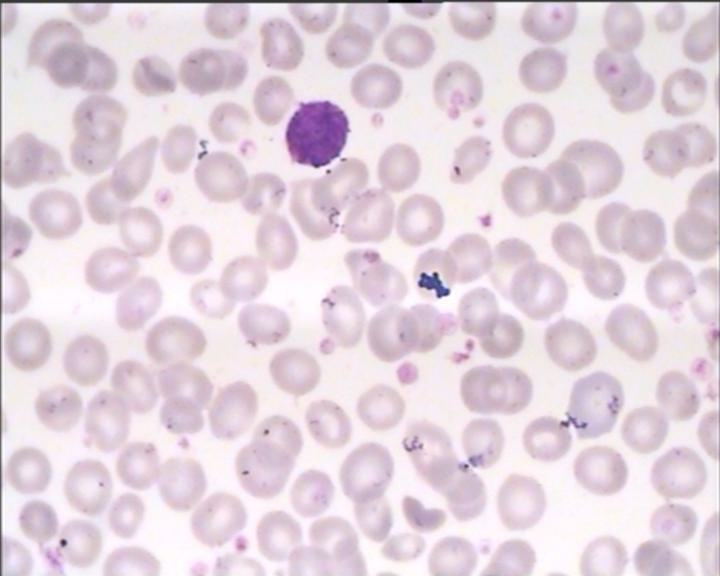baso: (280, 92, 353, 176)
